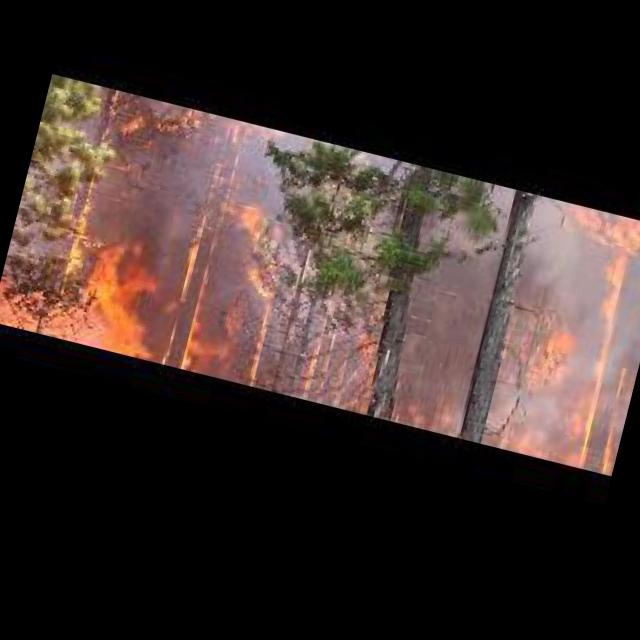fire: (0, 73, 338, 387), (400, 173, 640, 473)
